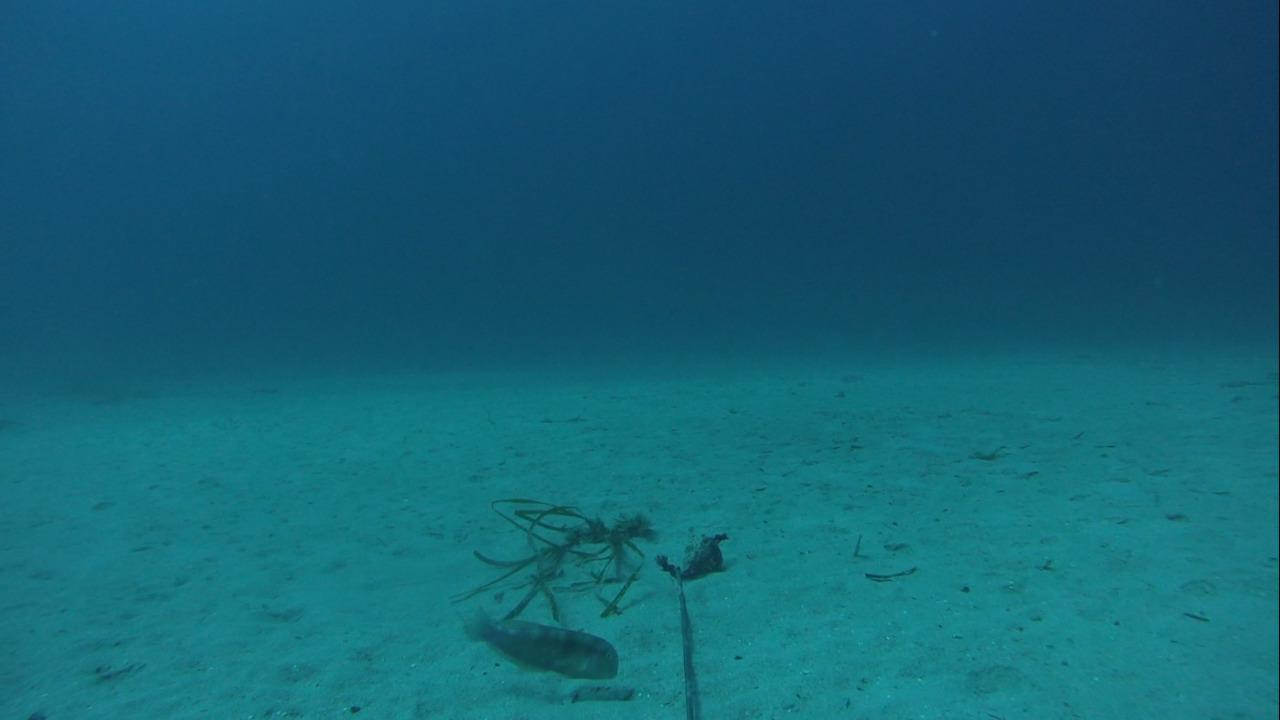raor: (454, 602, 623, 685)
